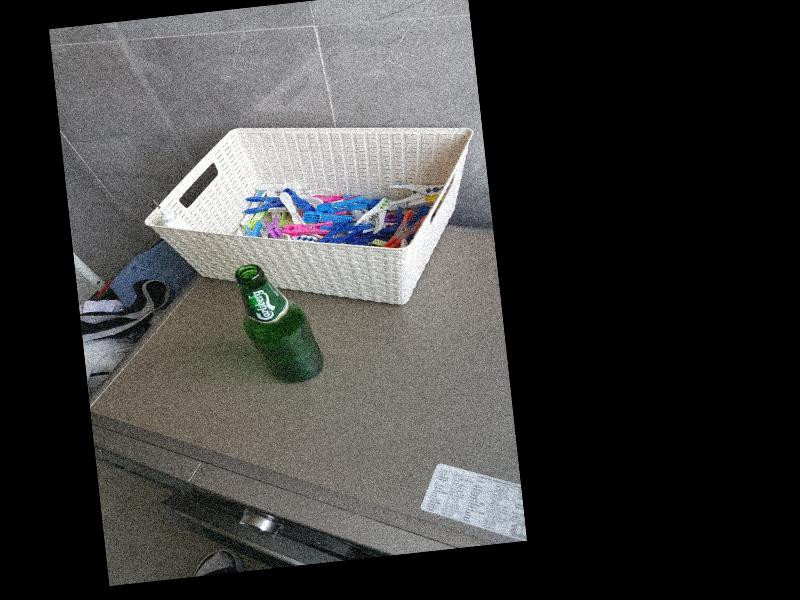Beer: (234, 257, 325, 388)
